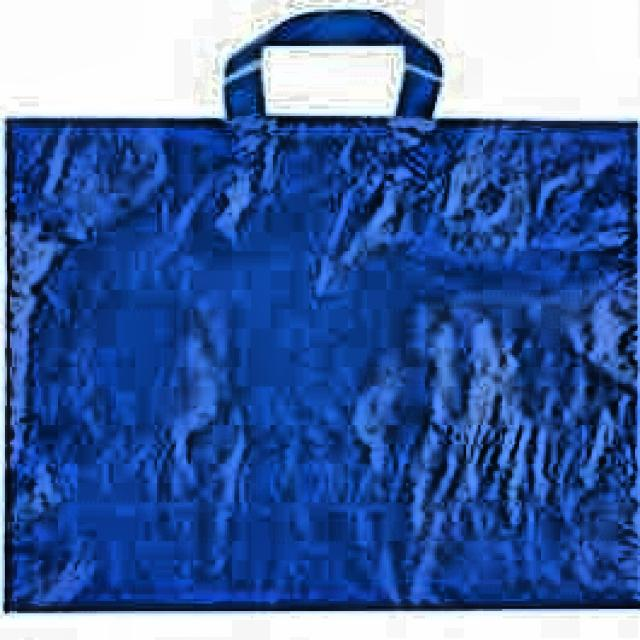Plastic: (7, 14, 640, 634)
